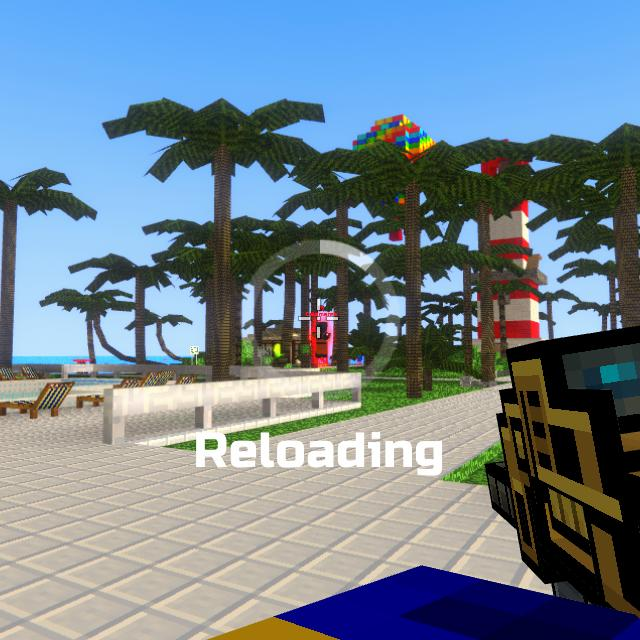Enemy: (311, 321, 332, 358)
